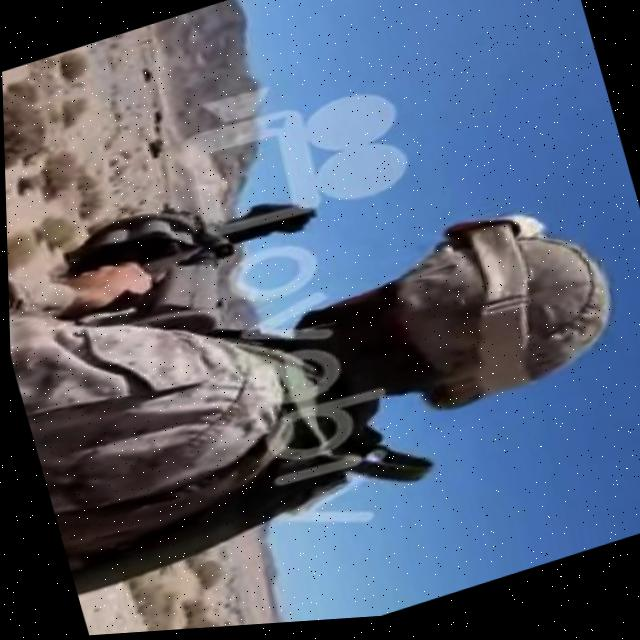rocket: (45, 155, 347, 376)
